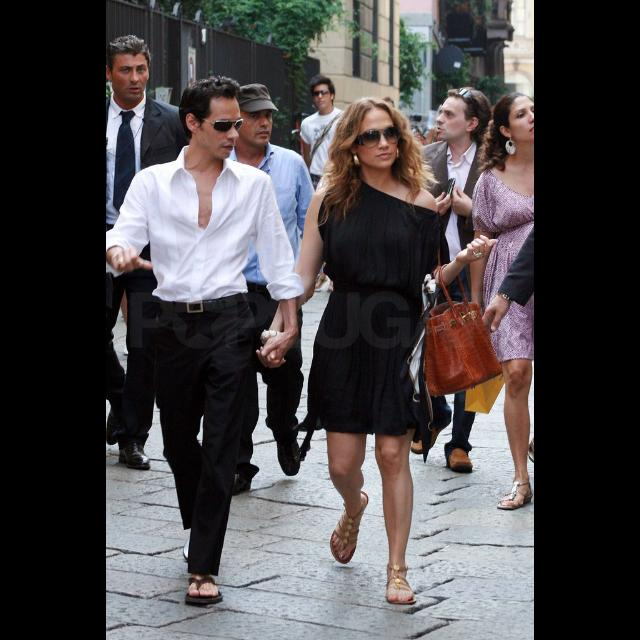head: (178, 78, 244, 162), (344, 98, 402, 170), (106, 34, 150, 104), (435, 88, 491, 142), (230, 86, 274, 148), (312, 81, 336, 111)
person: (256, 95, 510, 607), (106, 74, 306, 608), (185, 82, 331, 498), (398, 82, 514, 478), (106, 32, 200, 474), (296, 74, 364, 294)
